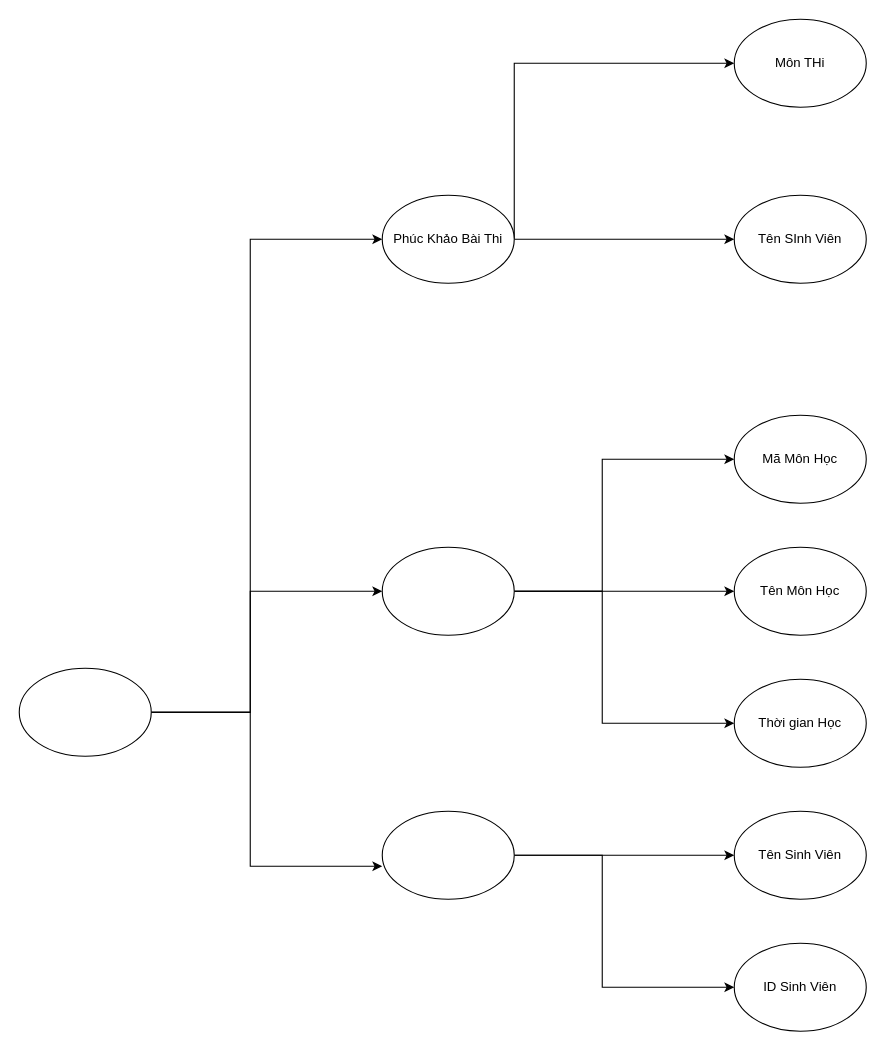
This 886x1051 diagram has some shape labels left out. Each missing label, with the centre of its shape:
"Thay Đổi Thông Tin" goes at (x=84, y=711).
"Đăng Ký Học Bổng" goes at (x=447, y=854).
"Đăng Ký Môn Học" goes at (x=447, y=590).
